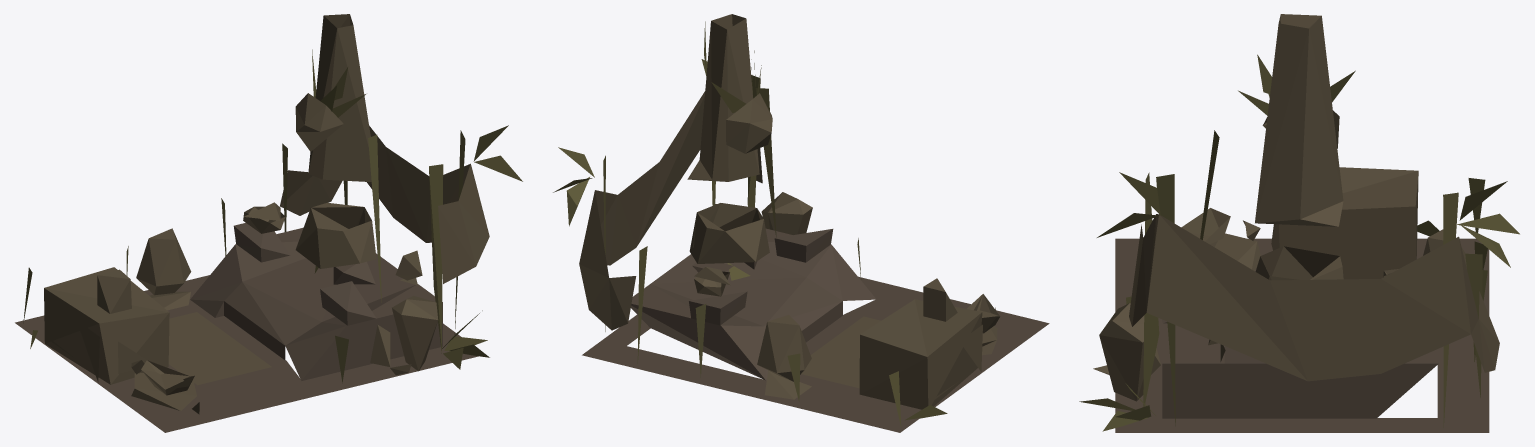
The model's file is aztec-shrine.lod2.glb.
The picture shows the model from 3 angles, left to right: view 1: azimuth 30°, elevation 25°; view 2: azimuth 150°, elevation 25°; view 3: azimuth 270°, elevation 25°; orthographic projection. The views are drawn at different scales.
Visible parts, largest first — view 1: Box001_mekan_grup_02_0; view 2: Box001_mekan_grup_02_0; view 3: Box001_mekan_grup_02_0.
Boxes of the visible parts, x1=… form: Box001_mekan_grup_02_0: x1=15, y1=14, x2=522, y2=432; Box001_mekan_grup_02_0: x1=553, y1=14, x2=1049, y2=432; Box001_mekan_grup_02_0: x1=1079, y1=14, x2=1519, y2=432.
Size of the model in its own units: 4.72 by 3.75 by 3.97.
